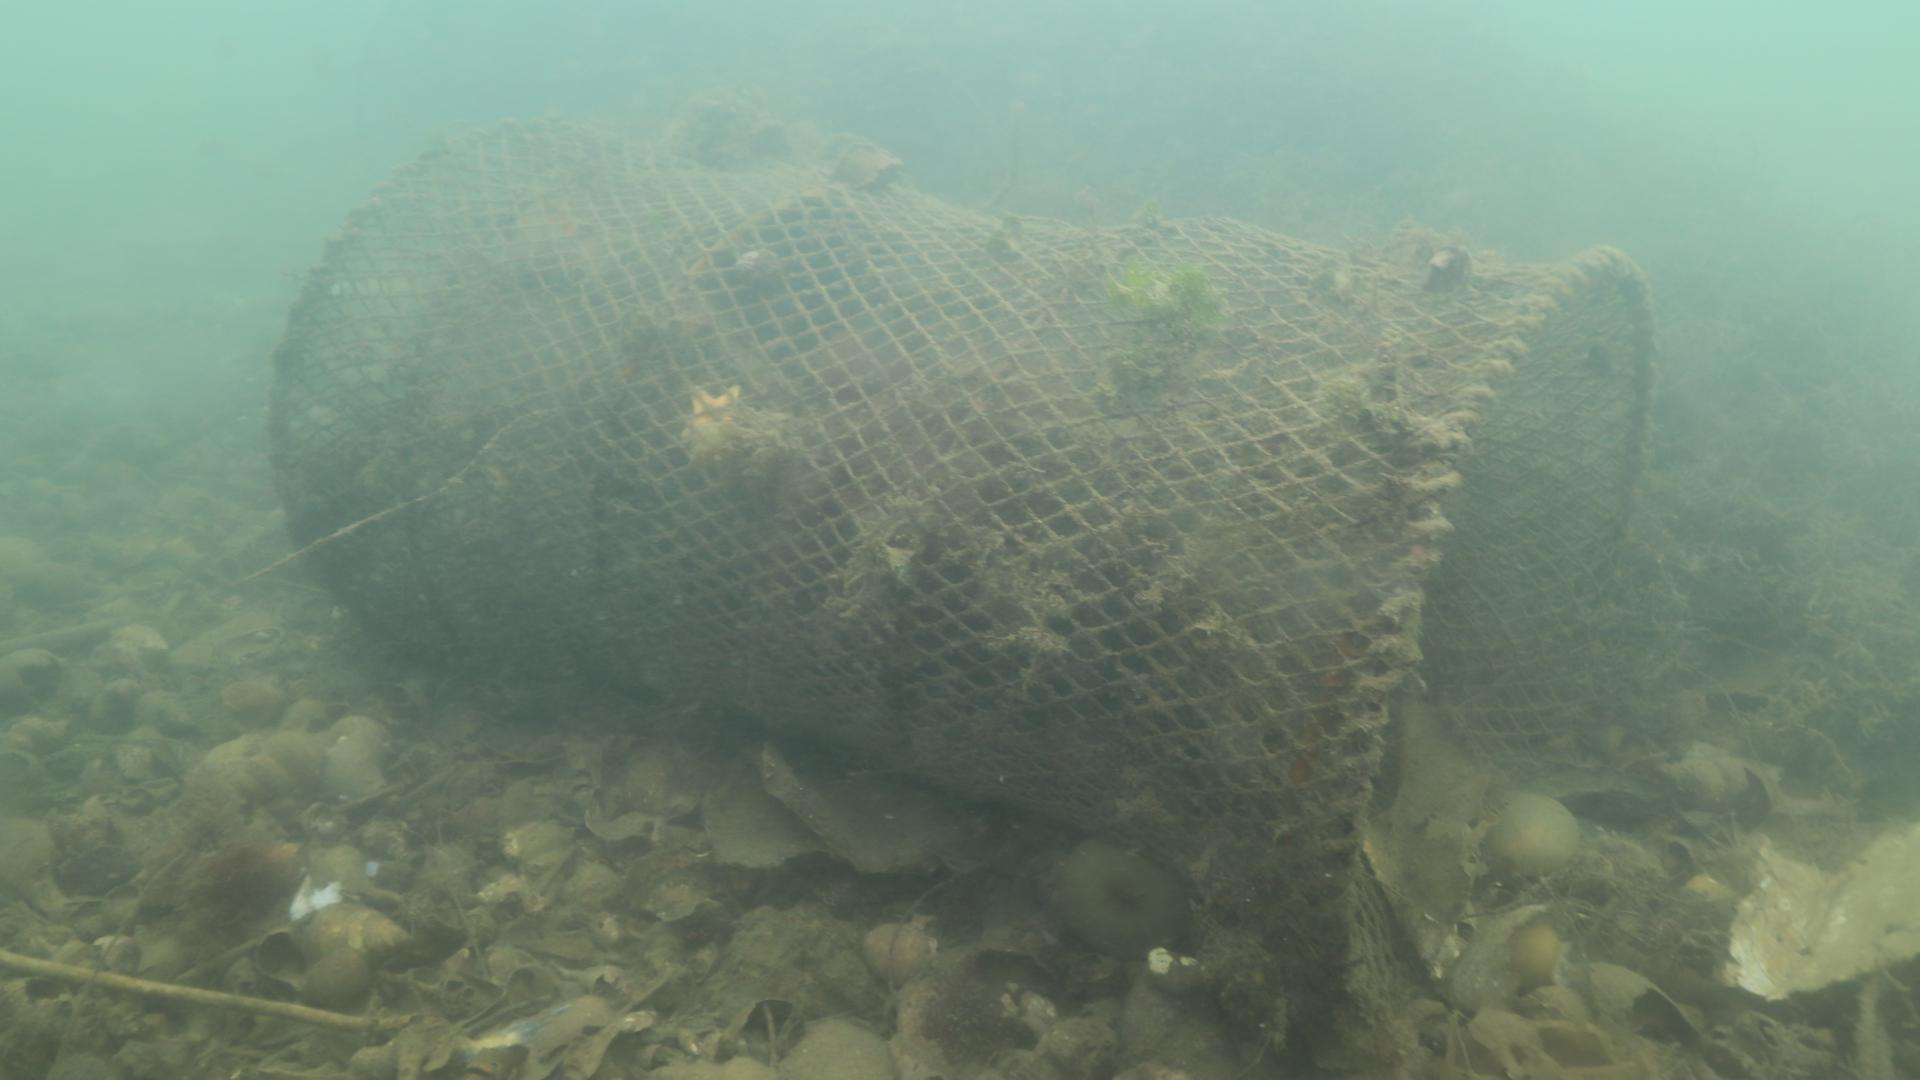spring fish trap: (265, 113, 1658, 1058)
